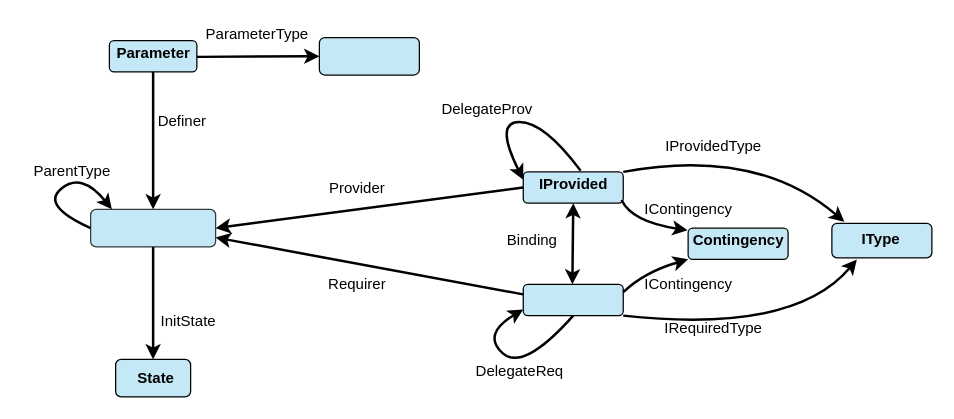
Image size: 954x419. Some labels were removed from this diagram. The shapes that lost their labels are listed below. From the top down, each one's box as (x1, y1, x2, y2) in pixels, then its label:
(318, 36, 419, 75): PType
(89, 208, 216, 247): CType
(522, 283, 623, 316): IRequired
